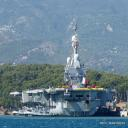Portanaves: (11, 20, 118, 118)
